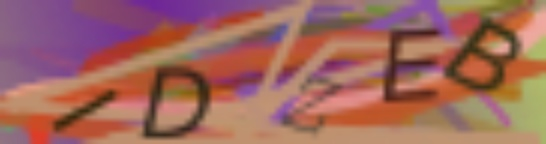B: (441, 18, 523, 92)
D: (138, 64, 215, 142)
E: (378, 25, 446, 105)
I: (48, 86, 120, 133)
Z: (279, 75, 343, 137)
